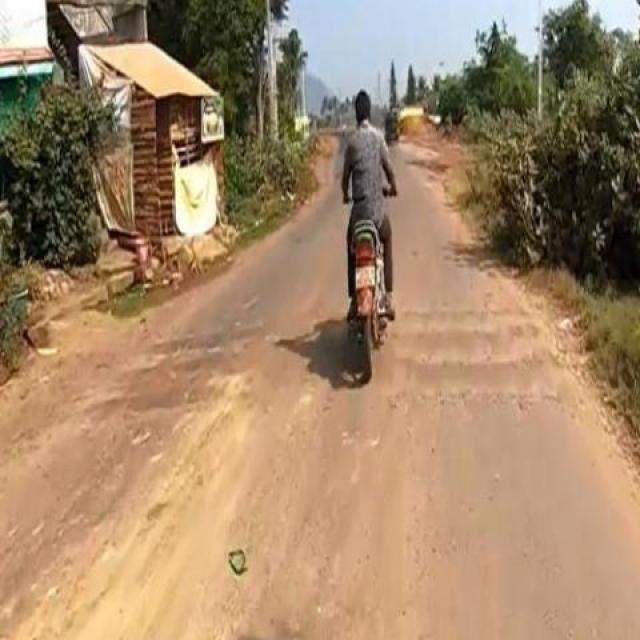Unmarked Bump: (111, 375, 352, 413), (376, 348, 564, 380), (148, 322, 347, 350), (124, 353, 352, 375), (393, 324, 548, 344), (396, 302, 540, 320)
